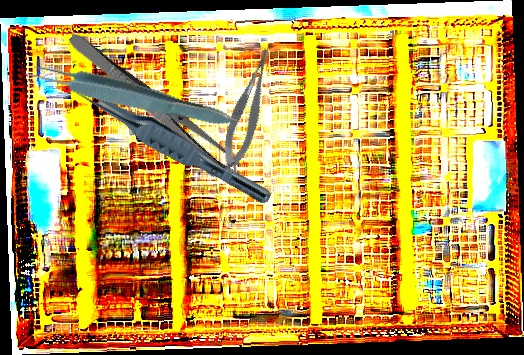Dressing Forceps: (62, 30, 239, 174)
Micro Scissor: (211, 45, 287, 175)
Tissue Forceps: (69, 80, 279, 207), (20, 54, 236, 134)
